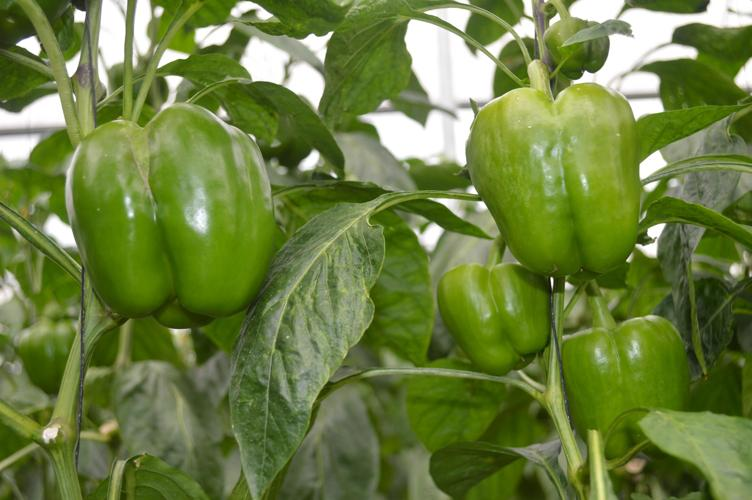BellPepper: (73, 108, 275, 318), (464, 86, 641, 272), (554, 315, 688, 449), (434, 264, 549, 368), (538, 16, 616, 72)
